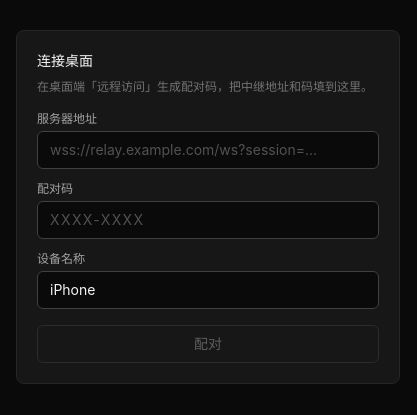
Test: PairingScreen error mapping › renders the invalid-code message for a 4401 close
Type "wss://relay.test/ws?session=abc" into the field labelled "服务器地址" at [208, 150], box left=37, top=131, right=379, bottom=169
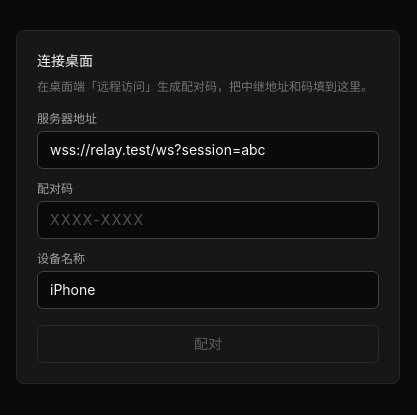
Type "ABCD-EFGH" into the field labelled "配对码" at [208, 220], box left=37, top=201, right=379, bottom=239
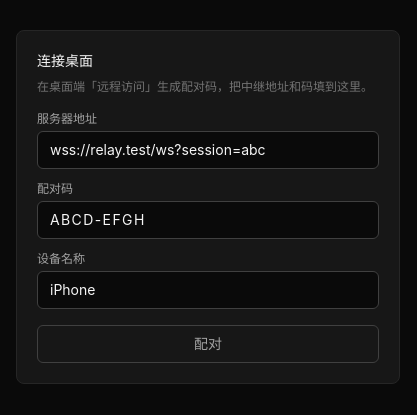
Replace the text in the field labelled "设备名称" with "我的 iPhone" at [208, 290], box left=37, top=271, right=379, bottom=309
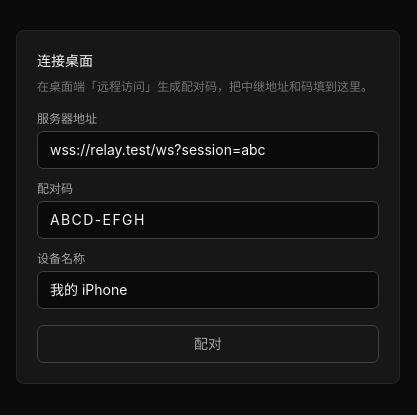
Click the button "配对" at [208, 344], box left=37, top=325, right=379, bottom=363
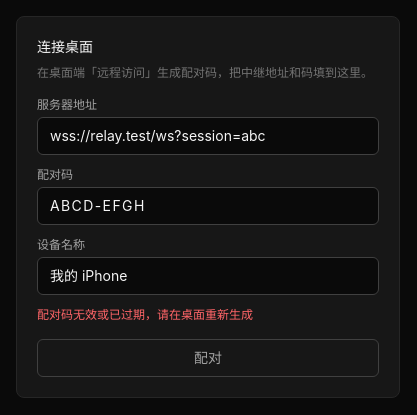
Expected: the message reads "配对码无效或已过期，请在桌面重新生成", left=37, top=307, right=253, bottom=322
